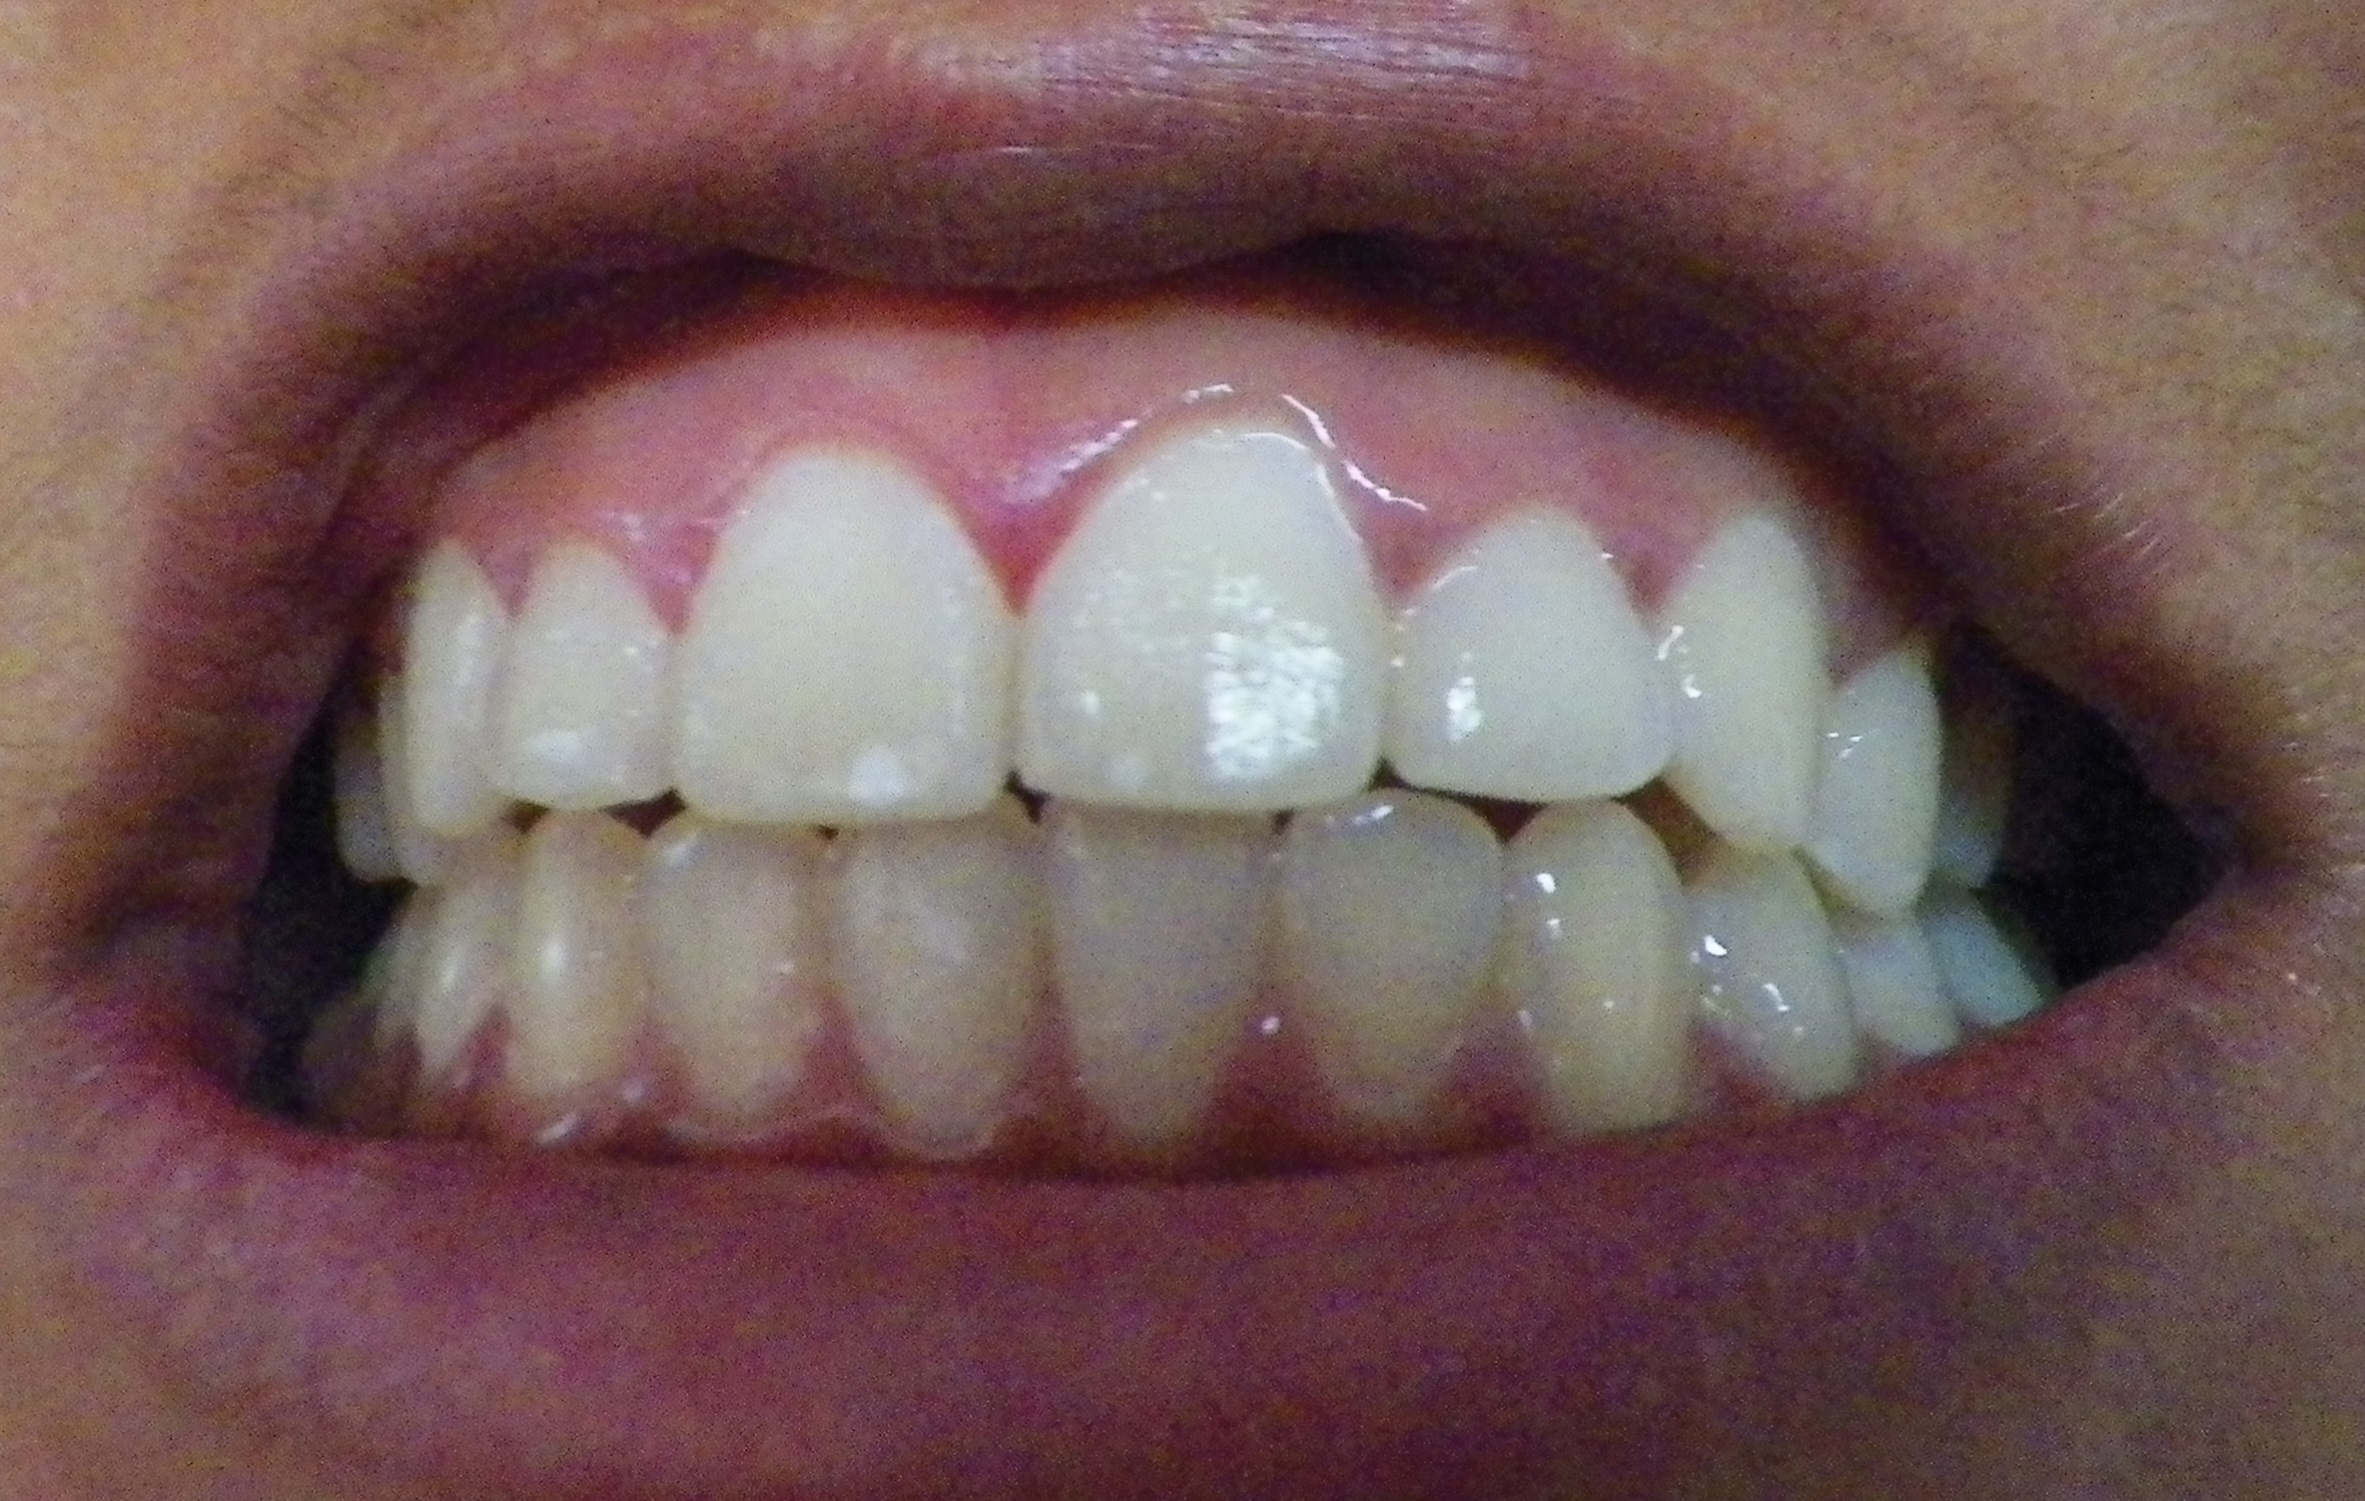boca: (307, 433, 2091, 1129)
